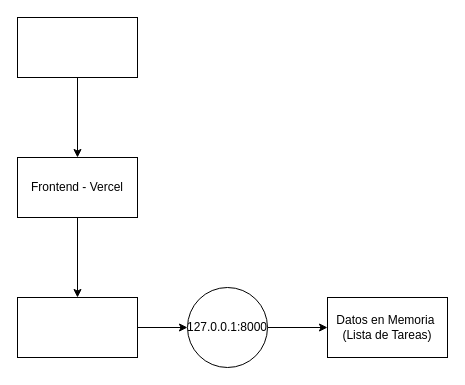
Image size: 465x385. Some labels were removed from this diagram. Each missing label, with the centre of its shape:
"API FastAPI - Local" goes at point 77,327.
"Usuario/Navegador" goes at point 77,47.
